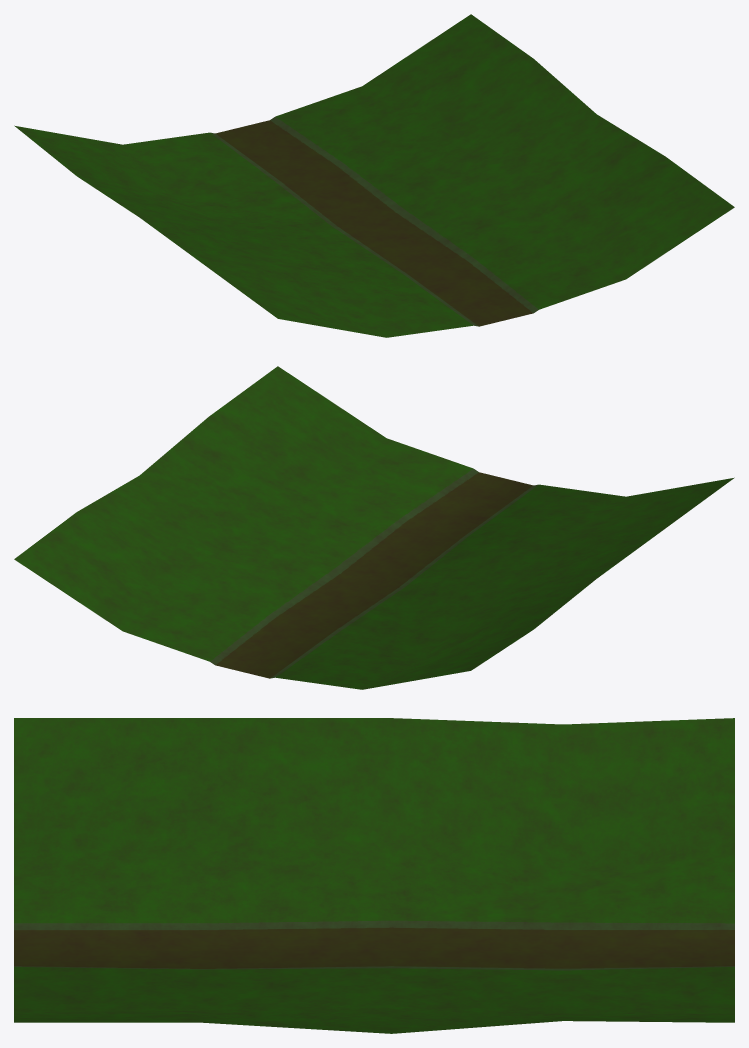
Rendered from env1.fbx.
3 views of the same model, one above another, from view 1: azimuth 30°, elevation 25°; view 2: azimuth 150°, elevation 25°; view 3: azimuth 270°, elevation 25° (orthographic). The views are drawn at different scales.
Parts seen in each view (by area): view 1: Plane.005; view 2: Plane.005; view 3: Plane.005.
Boxes of the visible parts, x1,y1,x2,y2 form: Plane.005: (14, 14, 734, 337); Plane.005: (14, 366, 734, 689); Plane.005: (14, 718, 734, 1033).
Size of the model in its own units: 2100 by 256 by 2100.
